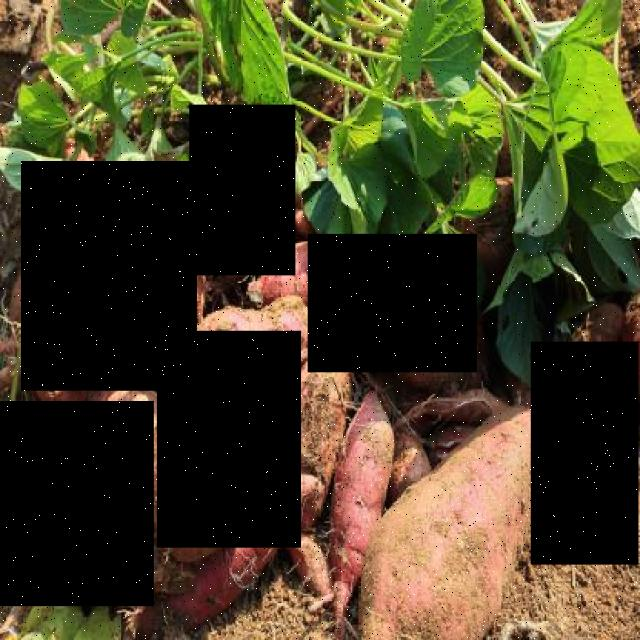Sweet_Potato: (351, 414, 552, 640), (21, 161, 198, 391), (0, 400, 154, 606), (158, 331, 302, 548), (531, 342, 640, 564), (309, 234, 478, 372), (190, 106, 296, 276)
